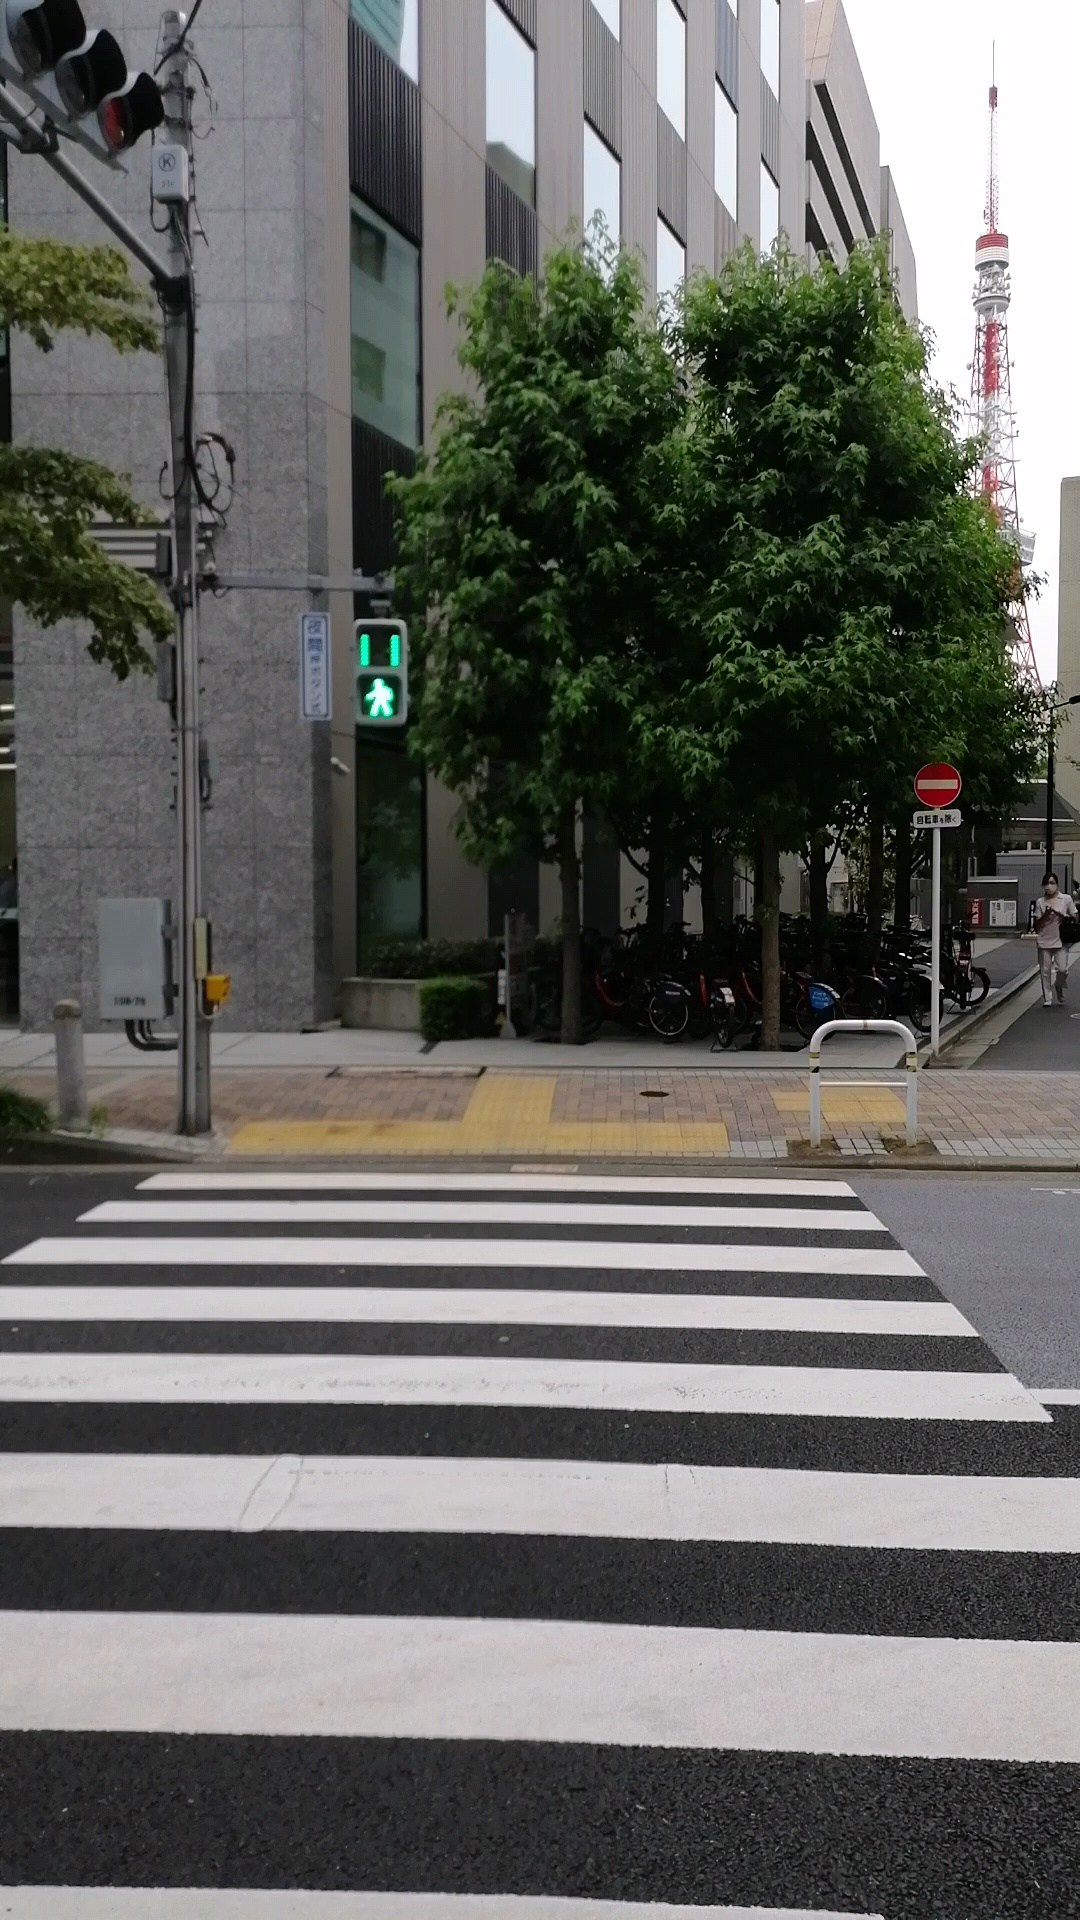green: (353, 617, 407, 727)
